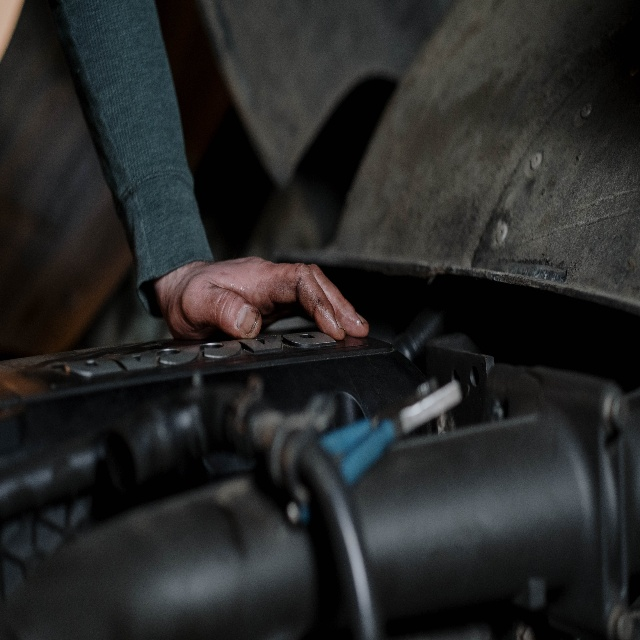Sin_guantes: (166, 255, 369, 342)
